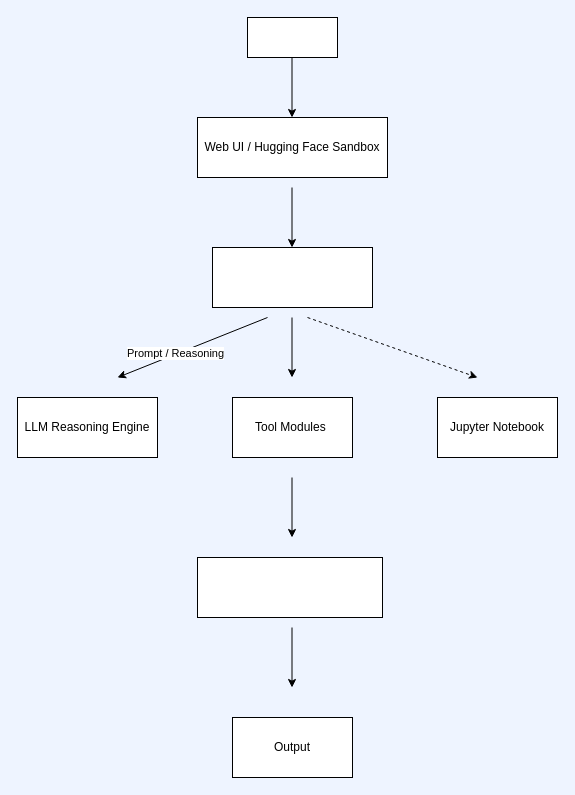
Image size: 575x795. Some labels were removed from this diagram. The shapes that lost their labels are listed below. From the top down, each one's box as (x1, y1, x2, y2) in pixels, then its label:
(246, 16, 338, 58): User
(212, 246, 372, 308): Agent Orchestration Layer
(196, 556, 382, 618): Data Transformation & Analytics
